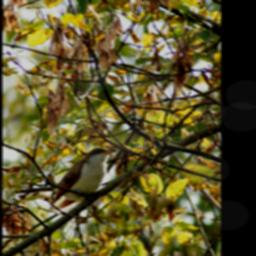Cuckoo: (42, 141, 119, 207)
